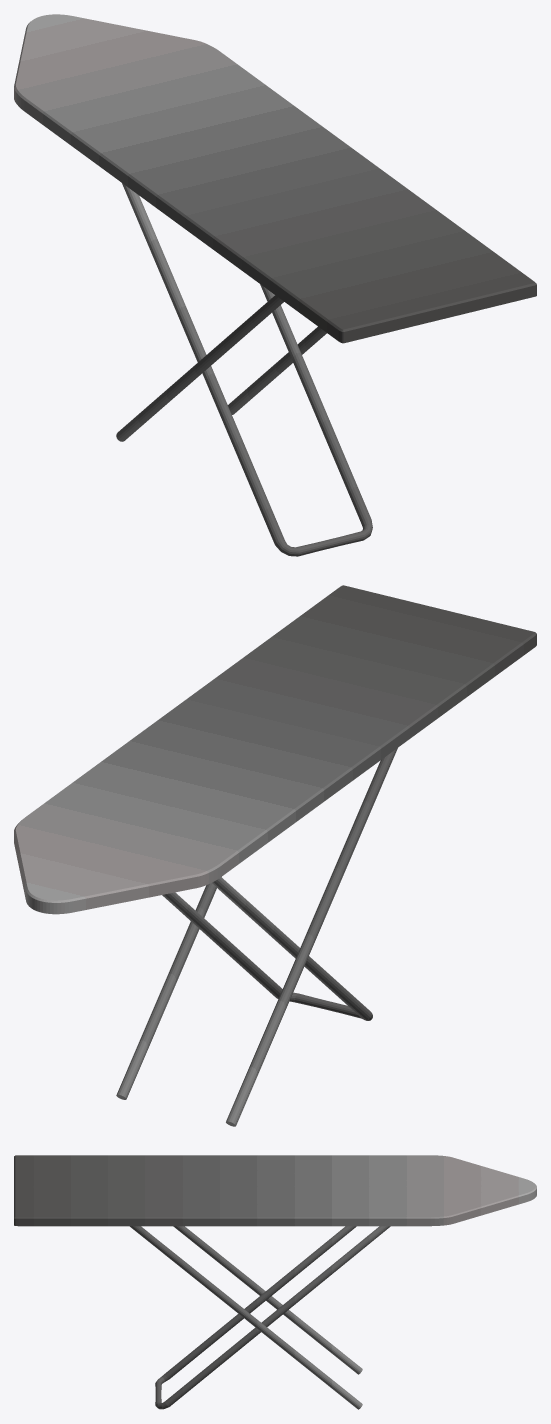
File: ironing_board_3d.fbx
The picture shows the model from 3 angles, top to bottom: view 1: azimuth 30°, elevation 25°; view 2: azimuth 150°, elevation 25°; view 3: azimuth 270°, elevation 25°; orthographic projection. The views are drawn at different scales.
Visible parts, largest first — view 1: ironingboard; view 2: ironingboard; view 3: ironingboard.
Part boxes in pixels (bbox=[...]): ironingboard: bbox=[14, 14, 536, 556]; ironingboard: bbox=[14, 585, 536, 1126]; ironingboard: bbox=[14, 1155, 536, 1409].
Bounding box in the file's own units: 73.3 × 115 × 257.
